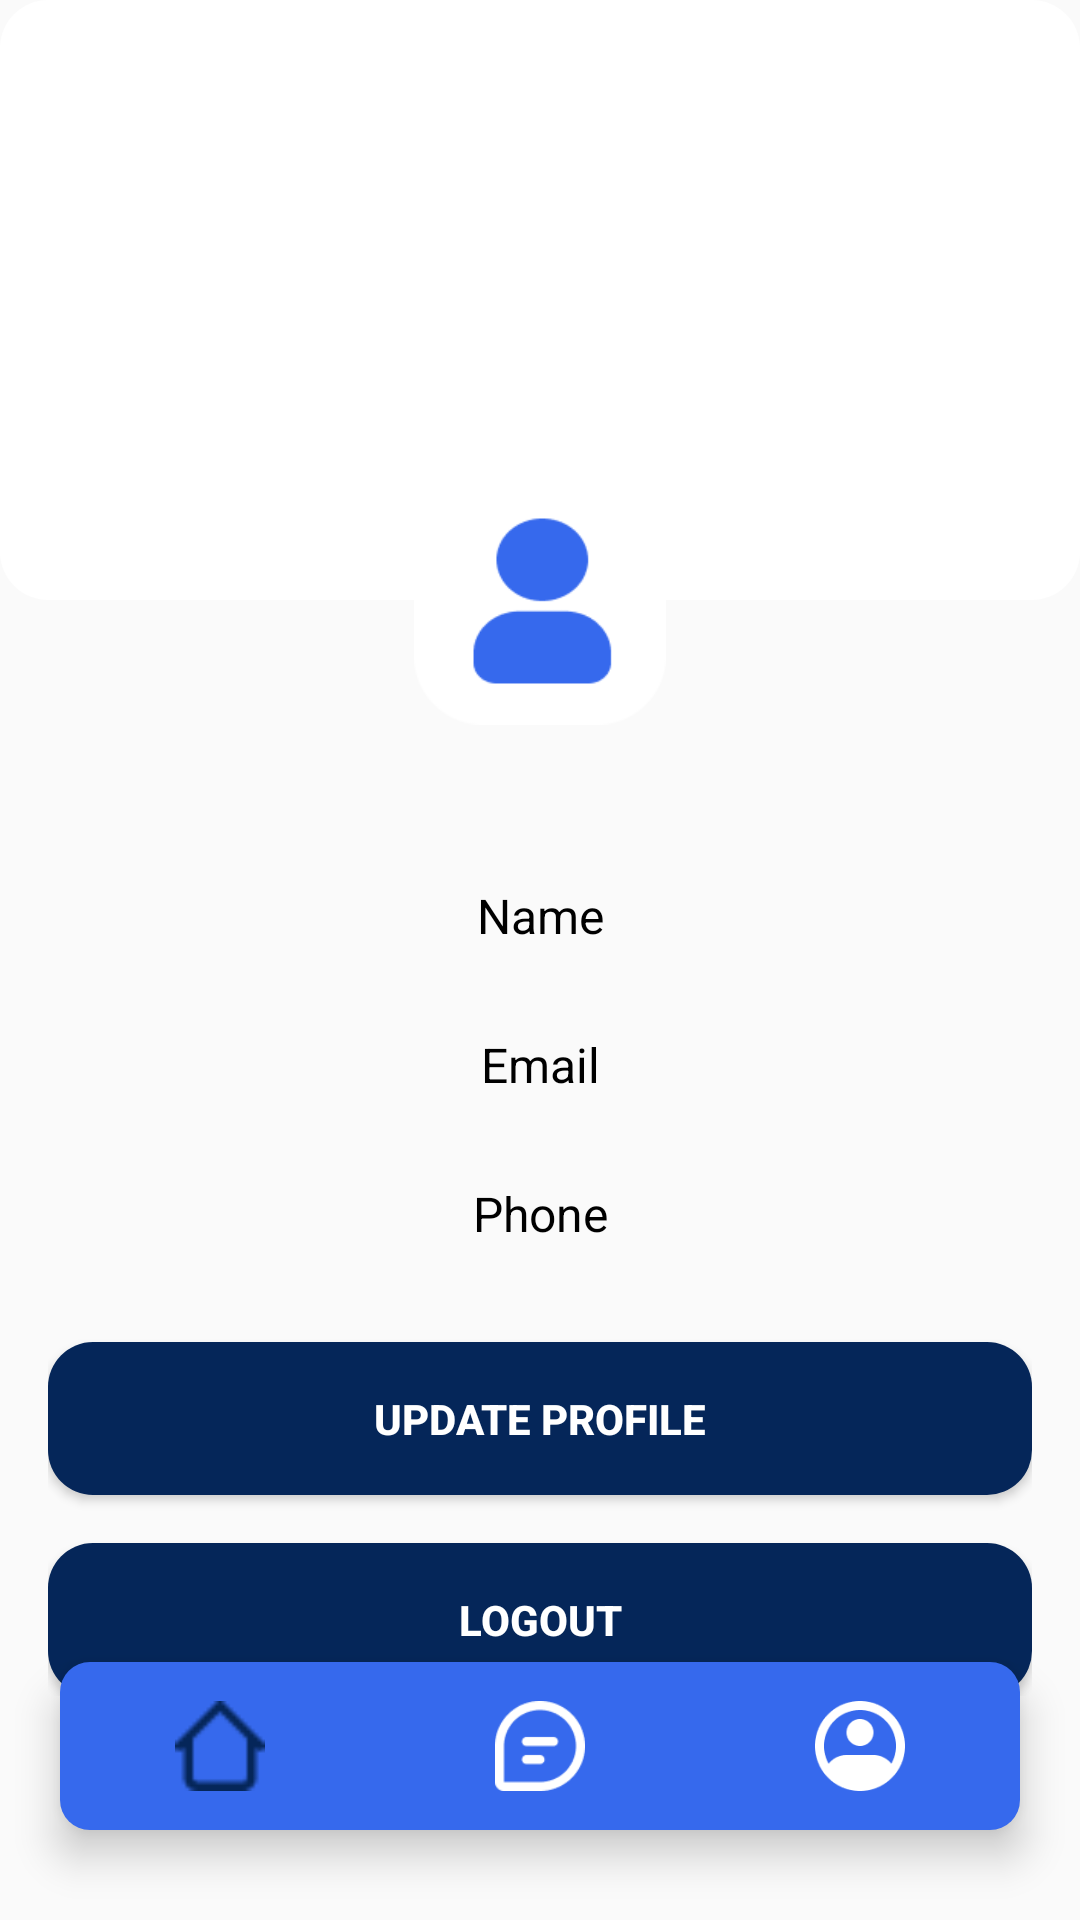

Locate icon controls on the screen. Image size 1080×1920, boxes as region(x1, y1, x2, y2).
Profile Picture: region(473, 518, 612, 684)
